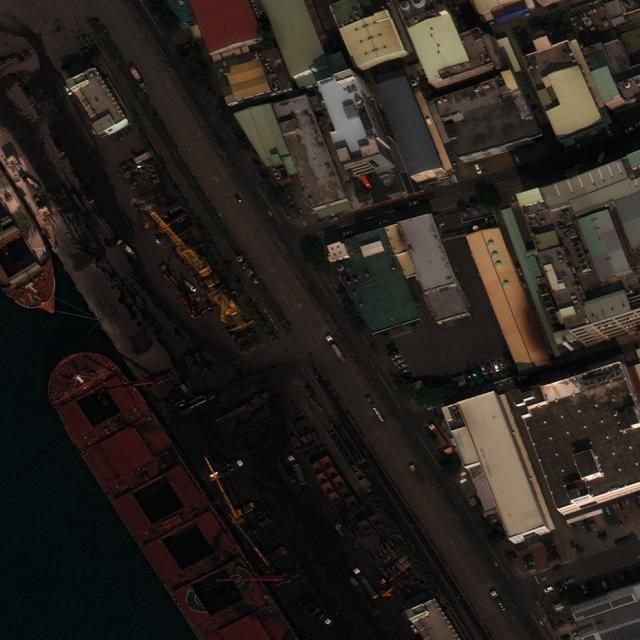Cargo: (1, 162, 58, 315)
Container Ship: (48, 350, 297, 640)
